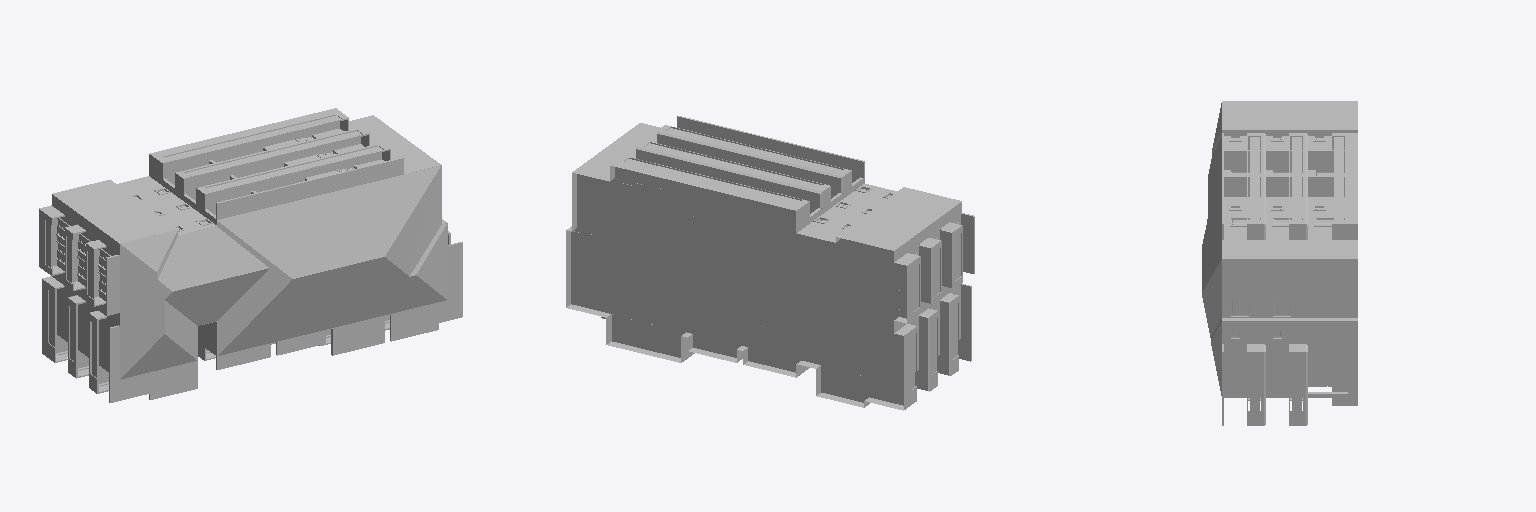
File: motel.obj
3 renders of one model, left to right at view 1: azimuth 30°, elevation 25°; view 2: azimuth 150°, elevation 25°; view 3: azimuth 270°, elevation 25°, orthographic.
Bounding box in the file's own units: 274 × 132 × 104.